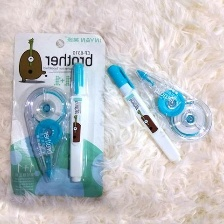book: (7, 29, 109, 199)
correction_fluid: (104, 61, 183, 166), (126, 64, 214, 145), (19, 84, 72, 186), (63, 60, 92, 186)
